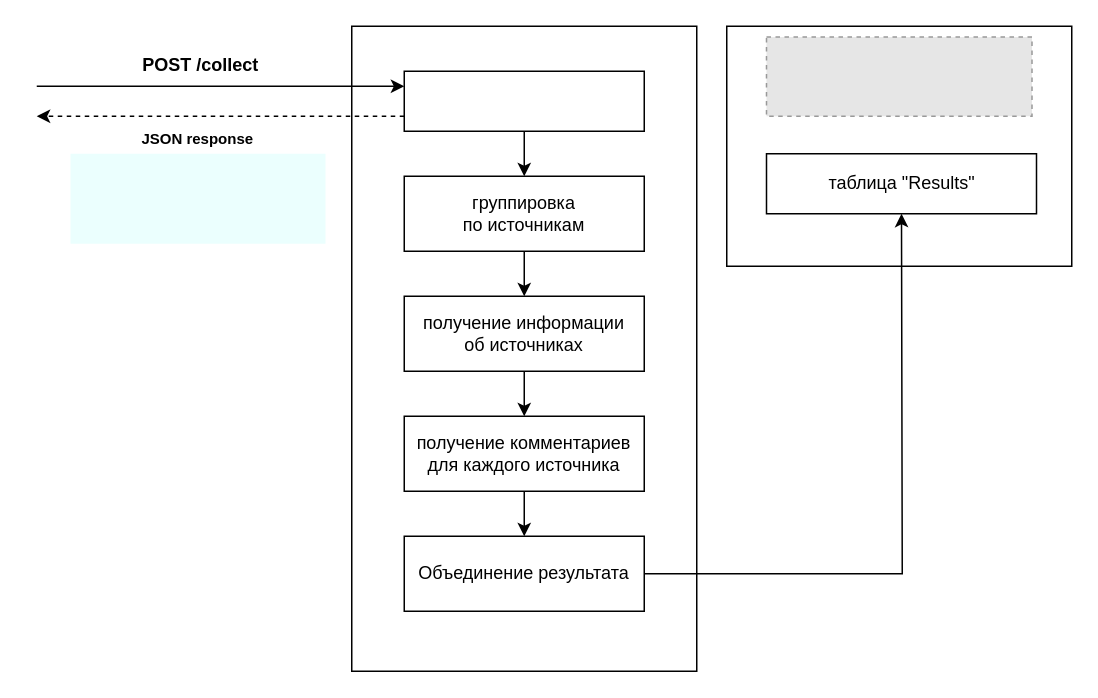
The diagram is 1098 pixels wide and 698 high, and some of its shapes have lost their labels. Grey dashed boxes stand in for pictures. Here are the shapes that lost their labels. From the top down, the centre of each, then its label:
(523,100): создание задачи
(197,198): { "status": "ok", "task_id": "76f9d0c1-d5ca-47f7fb0" }
